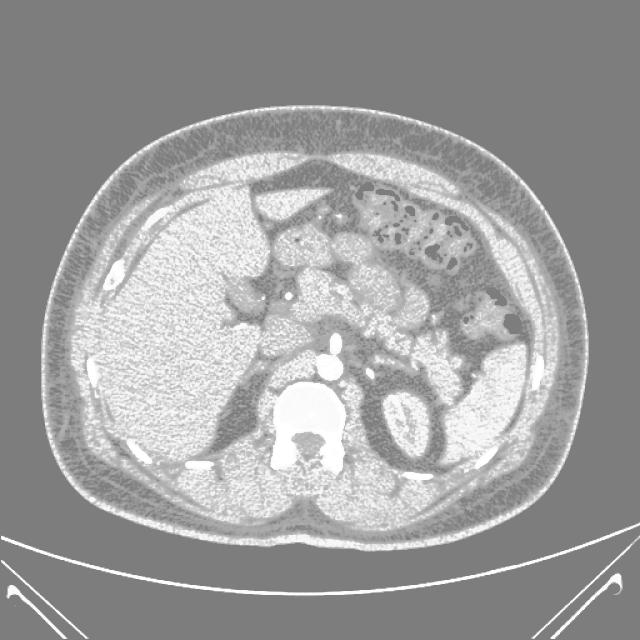NORMAL: (41, 120, 578, 515)
